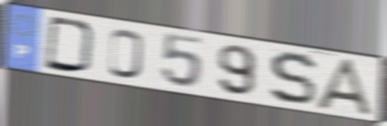0: (108, 28, 146, 80)
5: (159, 31, 205, 91)
9: (215, 43, 258, 98)
A: (313, 57, 380, 119)
D: (43, 14, 99, 76)
S: (268, 50, 319, 108)
